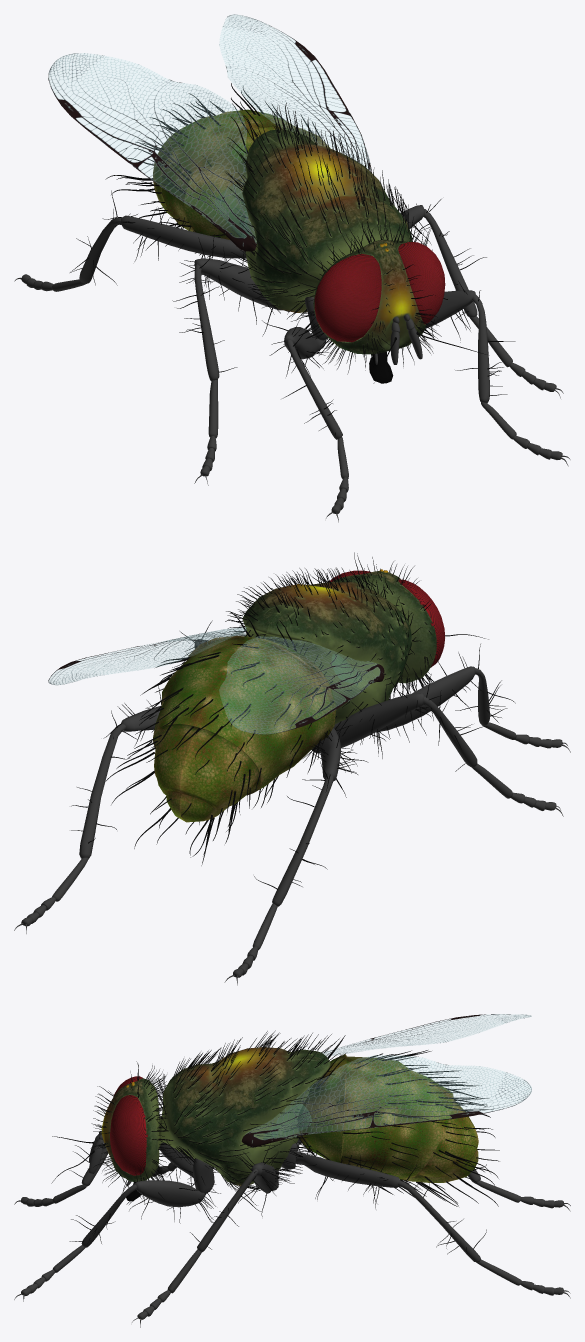
File: Fly.glb
3 views of the same model, one above another, from view 1: azimuth 30°, elevation 25°; view 2: azimuth 150°, elevation 25°; view 3: azimuth 270°, elevation 25° (orthographic). The views are drawn at different scales.
Parts seen in each view (by area): view 1: final_lambert1_0; view 2: final_lambert1_0; view 3: final_lambert1_0.
Part boxes in pixels (x1,y1,x2,y2): final_lambert1_0: (14, 14, 570, 522); final_lambert1_0: (14, 552, 570, 985); final_lambert1_0: (14, 1014, 570, 1327).
Bounding box in the file's own units: 0.1945 × 0.1271 × 0.2993.
Materials: 1 (1 with a texture image).
